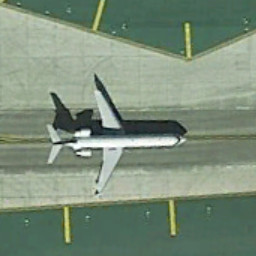Airplane: (21, 74, 196, 202)
